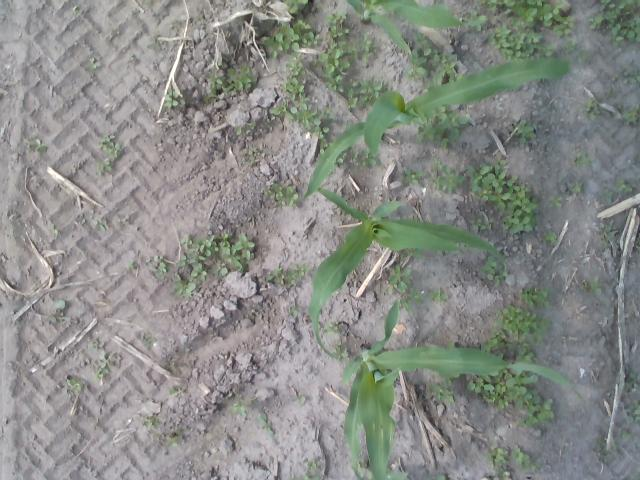Maize: (343, 299, 583, 479), (304, 57, 569, 198), (301, 180, 510, 358), (346, 1, 464, 53)
Weeds: (468, 159, 538, 234), (483, 0, 574, 35), (488, 25, 554, 59), (600, 0, 640, 42), (497, 305, 551, 334), (308, 37, 350, 70), (443, 109, 470, 139), (291, 104, 322, 128), (228, 66, 258, 90), (440, 164, 464, 192), (522, 286, 553, 307), (513, 446, 539, 471), (233, 232, 256, 259), (224, 243, 246, 271), (504, 370, 540, 386), (280, 23, 300, 51), (93, 350, 113, 378), (192, 235, 217, 256), (488, 447, 510, 470), (484, 330, 506, 352), (518, 118, 536, 144), (308, 119, 329, 140), (321, 73, 344, 92), (256, 412, 274, 436), (175, 280, 199, 298), (277, 186, 298, 206), (431, 382, 453, 401), (264, 34, 282, 57), (164, 426, 182, 448), (466, 378, 494, 392), (468, 10, 487, 30), (282, 0, 308, 14), (582, 276, 602, 294), (514, 386, 532, 406), (390, 265, 410, 283), (402, 168, 424, 184), (508, 336, 530, 352), (403, 66, 428, 80), (626, 398, 640, 423), (622, 106, 640, 125), (189, 264, 208, 282), (411, 48, 432, 64), (360, 79, 382, 94), (28, 138, 48, 154), (324, 24, 350, 36), (432, 49, 456, 62), (528, 390, 540, 416), (586, 98, 600, 120), (514, 350, 536, 364), (623, 66, 640, 84), (418, 125, 436, 142), (427, 288, 448, 302), (302, 32, 319, 49), (204, 84, 220, 102), (362, 150, 378, 168), (214, 231, 233, 246), (286, 78, 306, 92), (150, 261, 166, 278), (266, 268, 283, 284), (625, 373, 640, 391), (267, 100, 286, 114), (576, 152, 595, 166), (286, 62, 306, 75), (188, 247, 205, 262), (358, 34, 372, 52), (230, 404, 248, 418), (142, 416, 160, 430), (266, 184, 284, 198), (430, 69, 446, 84), (205, 73, 225, 85), (114, 214, 130, 229), (438, 376, 461, 386), (163, 95, 179, 109), (588, 14, 602, 30), (482, 256, 498, 270), (408, 288, 424, 302), (142, 334, 158, 348), (283, 268, 296, 285), (294, 20, 312, 32), (612, 28, 624, 46), (45, 311, 63, 323), (110, 143, 124, 158), (432, 106, 447, 120), (503, 390, 518, 404), (398, 298, 413, 312), (296, 264, 310, 279), (346, 90, 358, 107), (435, 123, 447, 140), (436, 63, 456, 73), (322, 322, 340, 333), (68, 379, 86, 390), (96, 157, 111, 170), (564, 36, 576, 52), (544, 232, 558, 245), (536, 409, 554, 419), (168, 384, 188, 393), (600, 220, 616, 231), (416, 31, 428, 45), (548, 196, 562, 208), (540, 398, 554, 410), (394, 281, 408, 293), (93, 220, 107, 232), (248, 304, 262, 316), (181, 233, 192, 248), (286, 52, 304, 61), (99, 144, 115, 154), (482, 391, 498, 401), (302, 458, 318, 468), (346, 41, 358, 54), (348, 78, 360, 91), (321, 107, 333, 120), (508, 17, 520, 30), (496, 378, 508, 391), (430, 174, 440, 189), (576, 50, 588, 61), (599, 233, 610, 245), (526, 414, 538, 425), (362, 50, 372, 63), (449, 72, 462, 82), (233, 393, 246, 403), (291, 476, 322, 480), (482, 219, 493, 230), (433, 159, 444, 170), (284, 110, 296, 120), (87, 340, 99, 350), (178, 251, 186, 266), (243, 146, 258, 154), (90, 58, 100, 70), (292, 396, 305, 405), (487, 266, 495, 280), (514, 420, 528, 428), (326, 13, 336, 24), (288, 93, 298, 104), (604, 87, 614, 98), (625, 182, 635, 193), (349, 150, 358, 162), (248, 396, 260, 405), (300, 93, 310, 103), (572, 182, 582, 192), (214, 59, 222, 71), (290, 304, 298, 316), (244, 157, 256, 165), (427, 475, 446, 480), (336, 11, 346, 20), (360, 96, 370, 105), (222, 85, 232, 94), (622, 429, 632, 438), (612, 438, 618, 453), (502, 470, 511, 480), (54, 299, 64, 308), (218, 267, 228, 276), (246, 122, 257, 130), (616, 180, 624, 191), (470, 218, 481, 226), (51, 224, 59, 235), (102, 136, 116, 142), (210, 268, 222, 275), (338, 154, 347, 163), (412, 248, 421, 257), (603, 190, 613, 198), (534, 334, 542, 344), (602, 454, 612, 462), (497, 398, 505, 408), (113, 354, 121, 364), (235, 123, 242, 134), (224, 391, 231, 402), (358, 459, 364, 471), (443, 137, 448, 151), (401, 250, 408, 260), (500, 270, 508, 278), (341, 349, 349, 357), (153, 432, 161, 440), (321, 139, 328, 148), (154, 255, 163, 262), (168, 90, 178, 96), (95, 170, 105, 176), (334, 344, 344, 350), (498, 466, 505, 474), (111, 28, 117, 37), (635, 154, 640, 164), (494, 276, 499, 286), (612, 74, 619, 81), (148, 44, 160, 48), (600, 439, 606, 447), (128, 264, 136, 270), (280, 84, 286, 91), (450, 396, 456, 402), (244, 130, 252, 134), (180, 98, 185, 104), (616, 103, 621, 109), (497, 264, 502, 270), (480, 477, 490, 480), (636, 237, 640, 244), (146, 255, 150, 262), (73, 5, 77, 11), (82, 219, 86, 224), (131, 54, 134, 60), (494, 476, 498, 480), (90, 210, 94, 214)
